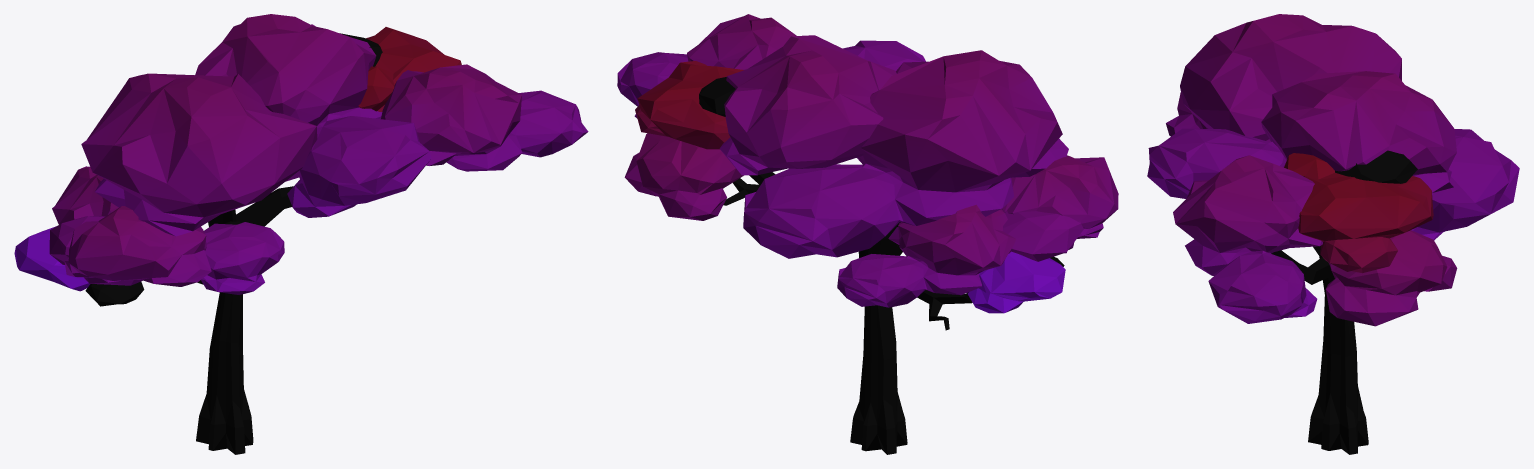
The model's file is SM_Env_Tree_Large_02.glb.
3 renders of one model, left to right at view 1: azimuth 30°, elevation 25°; view 2: azimuth 150°, elevation 25°; view 3: azimuth 270°, elevation 25°, orthographic. The views are drawn at different scales.
Visible parts, largest first — view 1: SM_Env_Tree_Large_02; view 2: SM_Env_Tree_Large_02; view 3: SM_Env_Tree_Large_02.
Part boxes in pixels (left/top/right/bottom): SM_Env_Tree_Large_02: left=14, top=14, right=588, bottom=454; SM_Env_Tree_Large_02: left=617, top=14, right=1118, bottom=454; SM_Env_Tree_Large_02: left=1147, top=14, right=1519, bottom=454.
Bounding box in the file's own units: 18.09 × 13.73 × 11.52.
